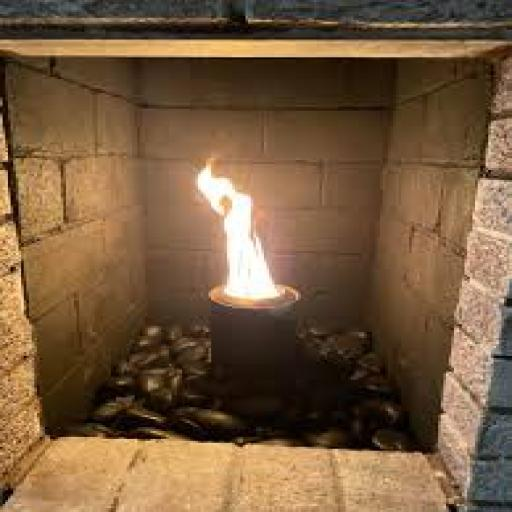fire: (193, 150, 298, 308)
